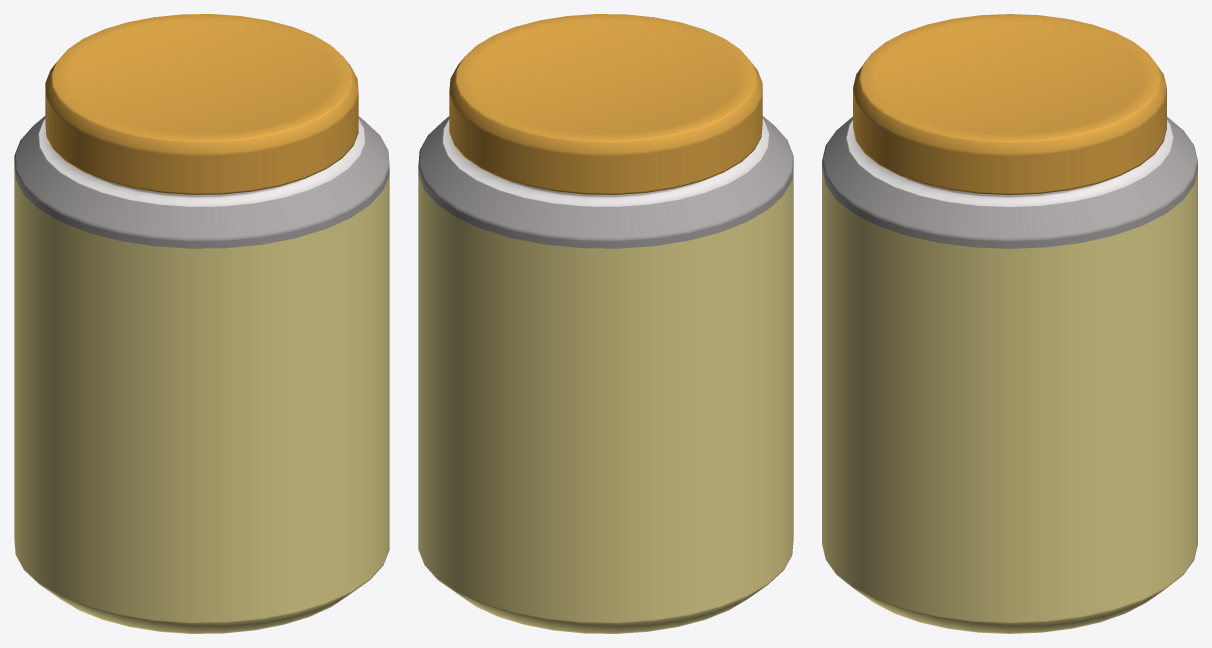
File: selai keju.fbx
3 views of the same model, side by side, from view 1: azimuth 30°, elevation 25°; view 2: azimuth 150°, elevation 25°; view 3: azimuth 270°, elevation 25° (orthographic).
Visible parts, largest first — view 1: Cylinder, Cylinder.001; view 2: Cylinder, Cylinder.001; view 3: Cylinder, Cylinder.001.
Boxes of the visible parts, x1,y1,x2,y2 form: Cylinder: (14,116,389,633); Cylinder.001: (45,14,358,194); Cylinder: (418,116,793,633); Cylinder.001: (449,14,762,194); Cylinder: (822,117,1197,633); Cylinder.001: (853,14,1166,195).
Bounding box in the file's own units: 83.38 × 120 × 83.38.
